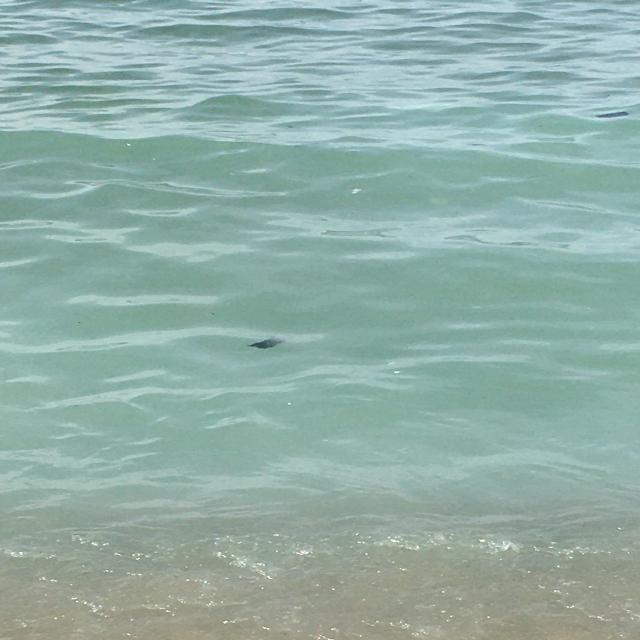Plastic: (240, 332, 294, 353)
